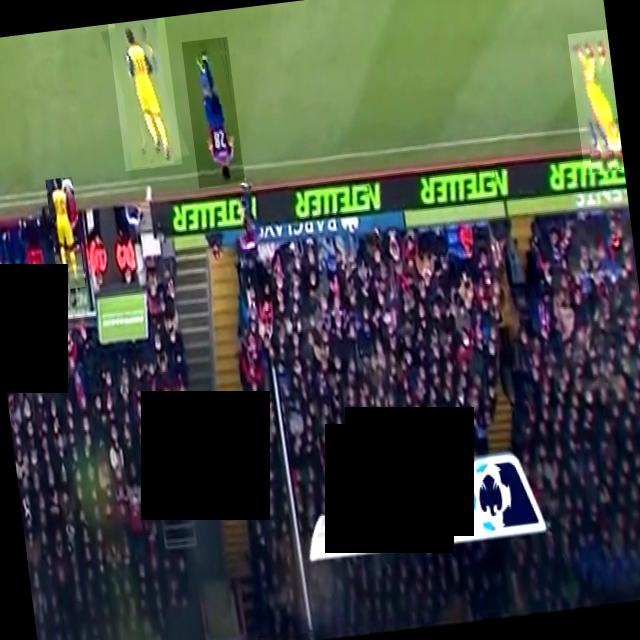soccer-player: (107, 16, 182, 170), (181, 36, 245, 188), (567, 29, 624, 175), (45, 176, 86, 291)
